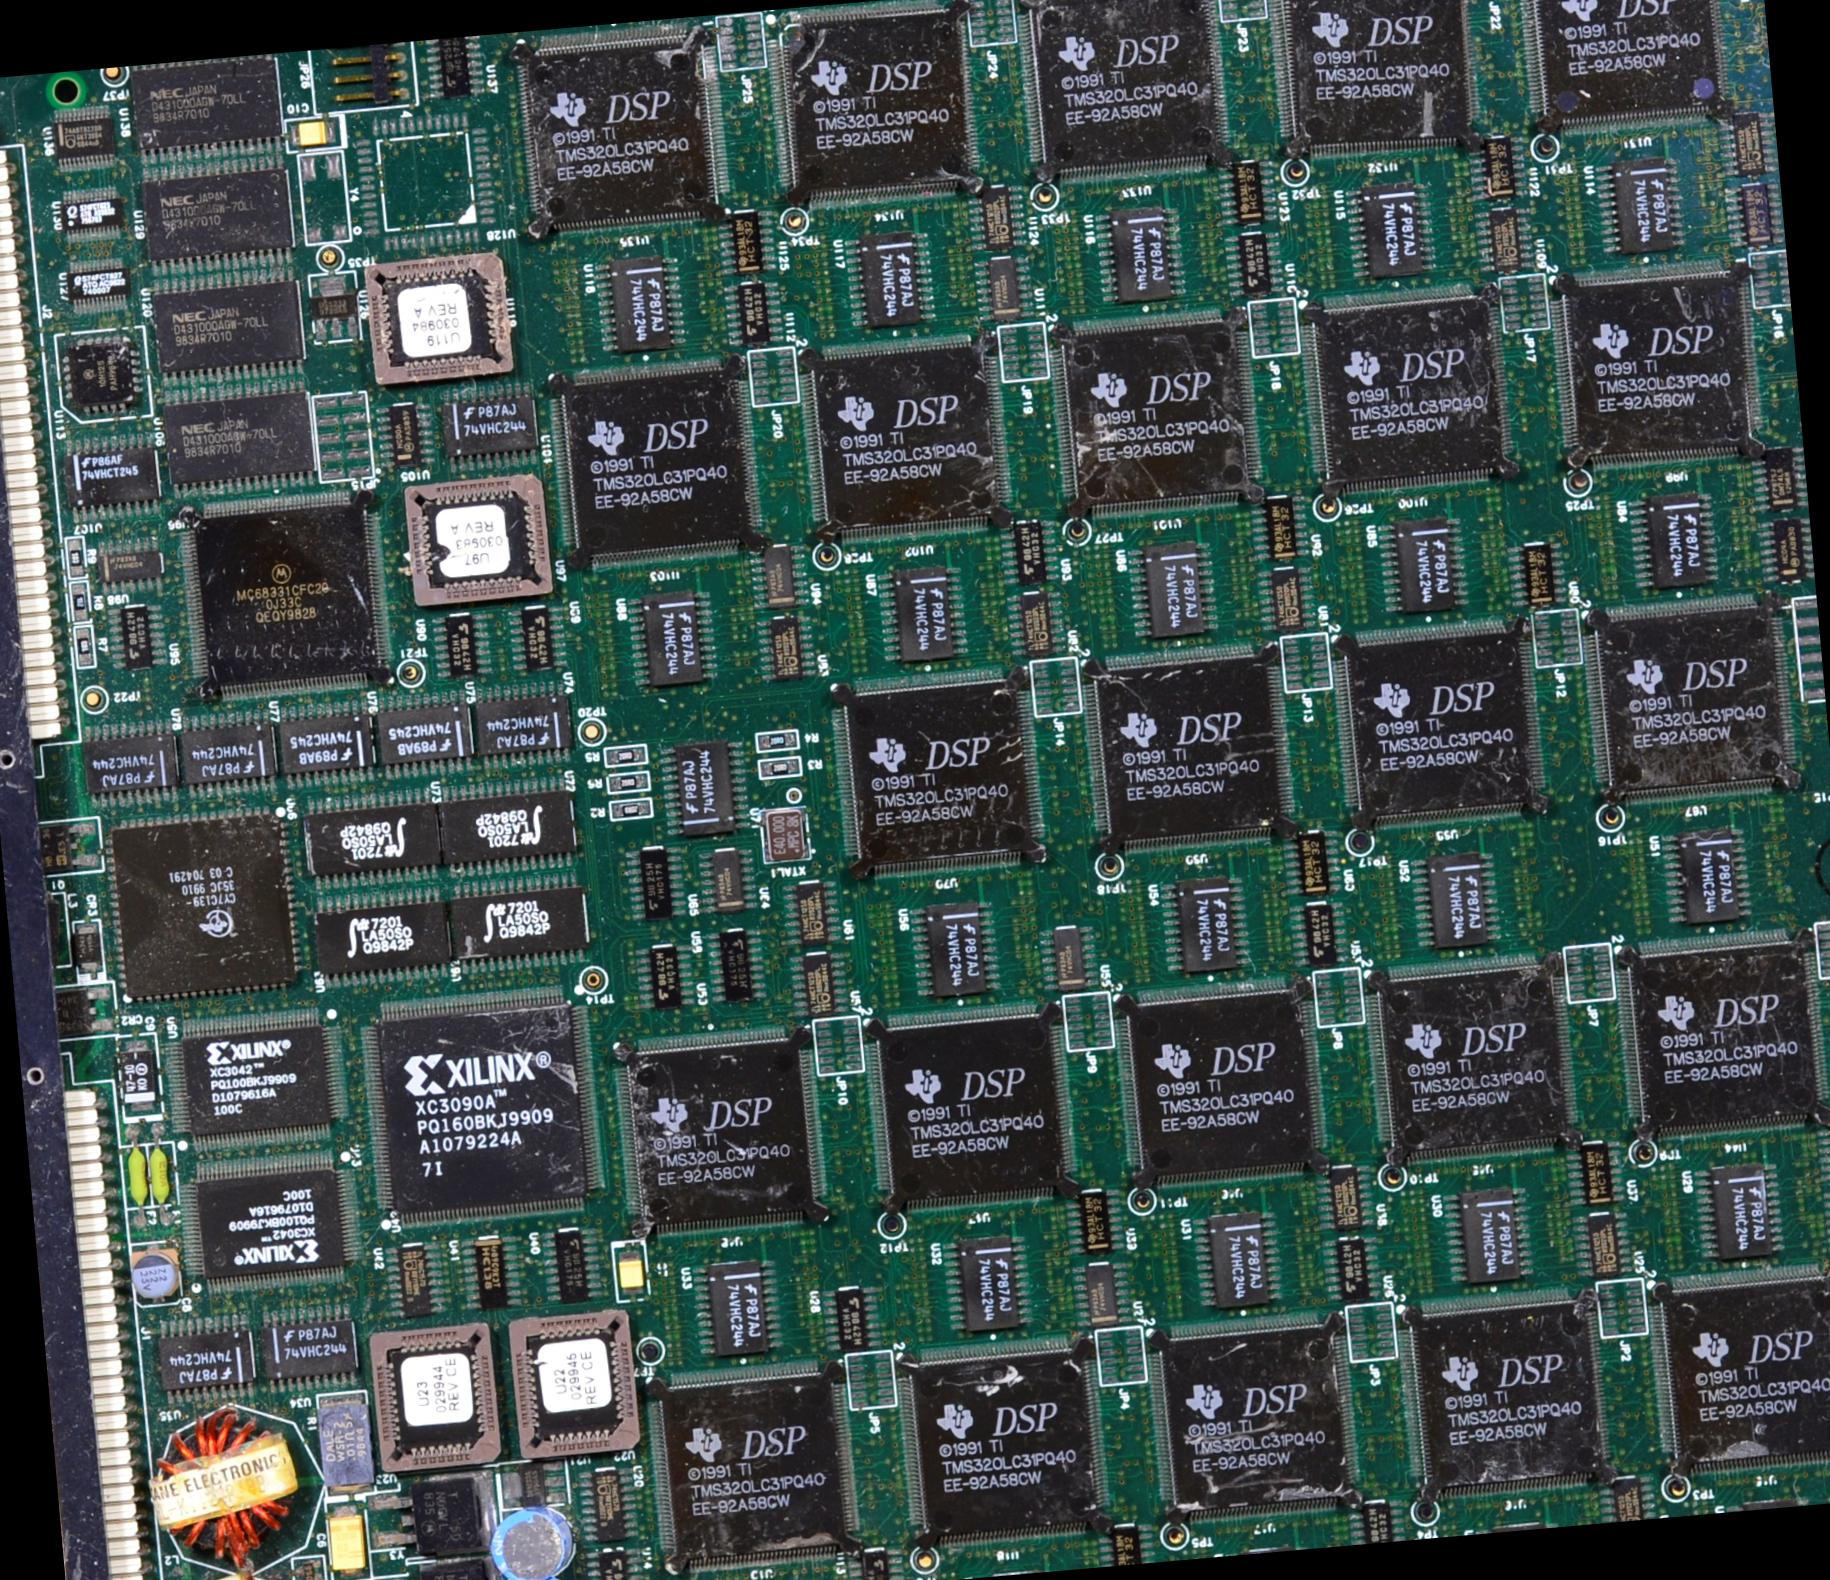Capacitor Jumper: (325, 1496, 370, 1578), (129, 1244, 185, 1306), (283, 114, 350, 154), (612, 1241, 649, 1301), (145, 1141, 171, 1208), (124, 1146, 146, 1208), (293, 1550, 325, 1578)
Connector: (22, 1079, 156, 1578), (0, 139, 68, 747)
IC: (356, 979, 613, 1227), (889, 1331, 1116, 1552), (1396, 1284, 1618, 1505), (1578, 588, 1805, 805), (644, 1356, 865, 1577), (512, 23, 734, 238), (831, 666, 1047, 886), (176, 487, 397, 702), (1547, 257, 1765, 473), (1332, 616, 1550, 831), (1114, 979, 1335, 1191), (798, 330, 1019, 542), (764, 0, 982, 213), (1078, 641, 1295, 855), (1147, 1311, 1363, 1524), (1615, 931, 1828, 1146), (864, 1002, 1075, 1217), (1047, 308, 1264, 517), (613, 1021, 831, 1228), (1365, 954, 1581, 1161), (552, 361, 764, 570), (1302, 290, 1511, 495), (1015, 0, 1232, 190), (1643, 1261, 1828, 1480), (104, 805, 302, 1006), (1270, 0, 1485, 162), (1513, 0, 1737, 142), (162, 1004, 352, 1164), (182, 1147, 375, 1298), (361, 251, 523, 388), (401, 476, 559, 610), (363, 1328, 506, 1471), (507, 1309, 641, 1457), (159, 377, 319, 497), (146, 271, 307, 386), (135, 157, 293, 272), (128, 53, 285, 163), (310, 886, 453, 987), (302, 791, 442, 892), (450, 872, 590, 973), (439, 778, 582, 876), (156, 1312, 263, 1409), (1623, 490, 1721, 592), (626, 592, 722, 694), (1189, 1211, 1287, 1311), (461, 683, 570, 772), (1094, 205, 1190, 305), (53, 325, 151, 422), (1695, 1161, 1786, 1262), (657, 739, 748, 839), (907, 898, 999, 998), (842, 235, 937, 330), (1659, 825, 1752, 922), (1159, 878, 1253, 974), (263, 1301, 361, 1393), (1408, 856, 1502, 950), (945, 1234, 1033, 1332), (443, 383, 542, 472), (87, 722, 185, 811), (65, 436, 165, 523), (596, 254, 682, 355), (1344, 184, 1435, 279), (1128, 543, 1217, 640), (372, 699, 472, 783), (1444, 1189, 1533, 1283), (1593, 162, 1682, 254), (1377, 520, 1466, 610), (275, 705, 372, 788), (177, 719, 277, 799), (879, 579, 968, 666), (699, 1262, 777, 1357), (372, 395, 433, 483), (538, 1224, 604, 1301), (996, 517, 1058, 598), (973, 255, 1046, 322), (1246, 492, 1315, 562), (429, 609, 496, 680), (708, 925, 769, 1002), (632, 942, 699, 1012), (92, 532, 163, 598), (422, 34, 489, 103), (1463, 131, 1527, 202), (711, 207, 777, 276), (719, 279, 784, 347), (1212, 157, 1276, 227), (968, 185, 1032, 255), (462, 1239, 524, 1311), (51, 104, 117, 171), (1572, 1213, 1640, 1276), (1282, 827, 1344, 897), (384, 1244, 445, 1315), (1716, 107, 1777, 179), (627, 844, 686, 917), (1505, 540, 1569, 607), (700, 845, 762, 914), (748, 539, 808, 610), (1288, 903, 1352, 968), (787, 951, 851, 1016), (106, 604, 171, 668), (825, 1284, 887, 1351), (759, 612, 822, 679), (1748, 447, 1808, 515), (1726, 179, 1785, 249), (1315, 1160, 1372, 1231), (579, 1466, 635, 1540), (506, 606, 566, 672), (1567, 1138, 1626, 1206), (1257, 568, 1318, 632), (1474, 210, 1533, 274), (1757, 520, 1814, 585), (1067, 1186, 1120, 1256), (62, 185, 123, 244), (1041, 926, 1097, 990), (1323, 1234, 1382, 1294), (1007, 599, 1069, 655), (786, 880, 839, 945), (1077, 1261, 1130, 1326), (1225, 233, 1282, 291), (68, 258, 129, 311), (1603, 1473, 1660, 1521), (761, 806, 811, 861), (1096, 1519, 1153, 1566), (1349, 1499, 1405, 1544), (843, 1546, 907, 1578), (590, 1547, 641, 1578), (1819, 1111, 1828, 1185)
Resistor Jumper: (317, 1390, 377, 1496), (753, 729, 798, 753), (756, 755, 803, 778), (65, 535, 89, 579), (67, 584, 90, 627), (608, 772, 649, 791), (610, 799, 650, 817), (604, 746, 643, 763)
Transistor: (72, 624, 96, 668)
